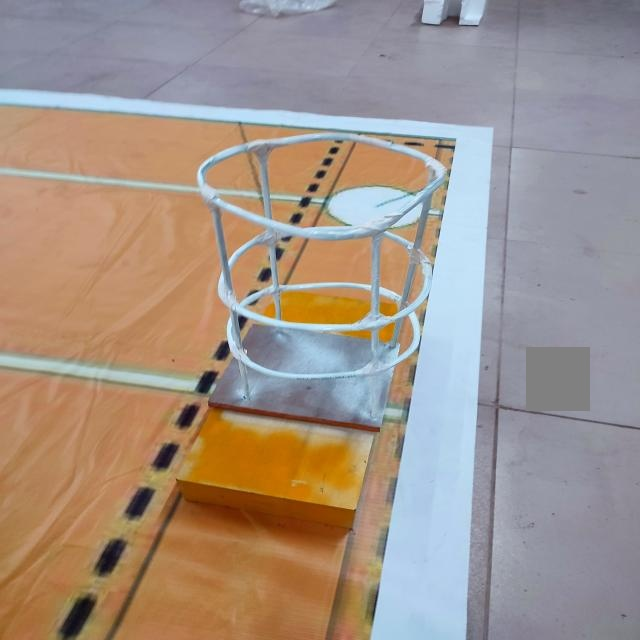silo: (175, 132, 458, 428)
